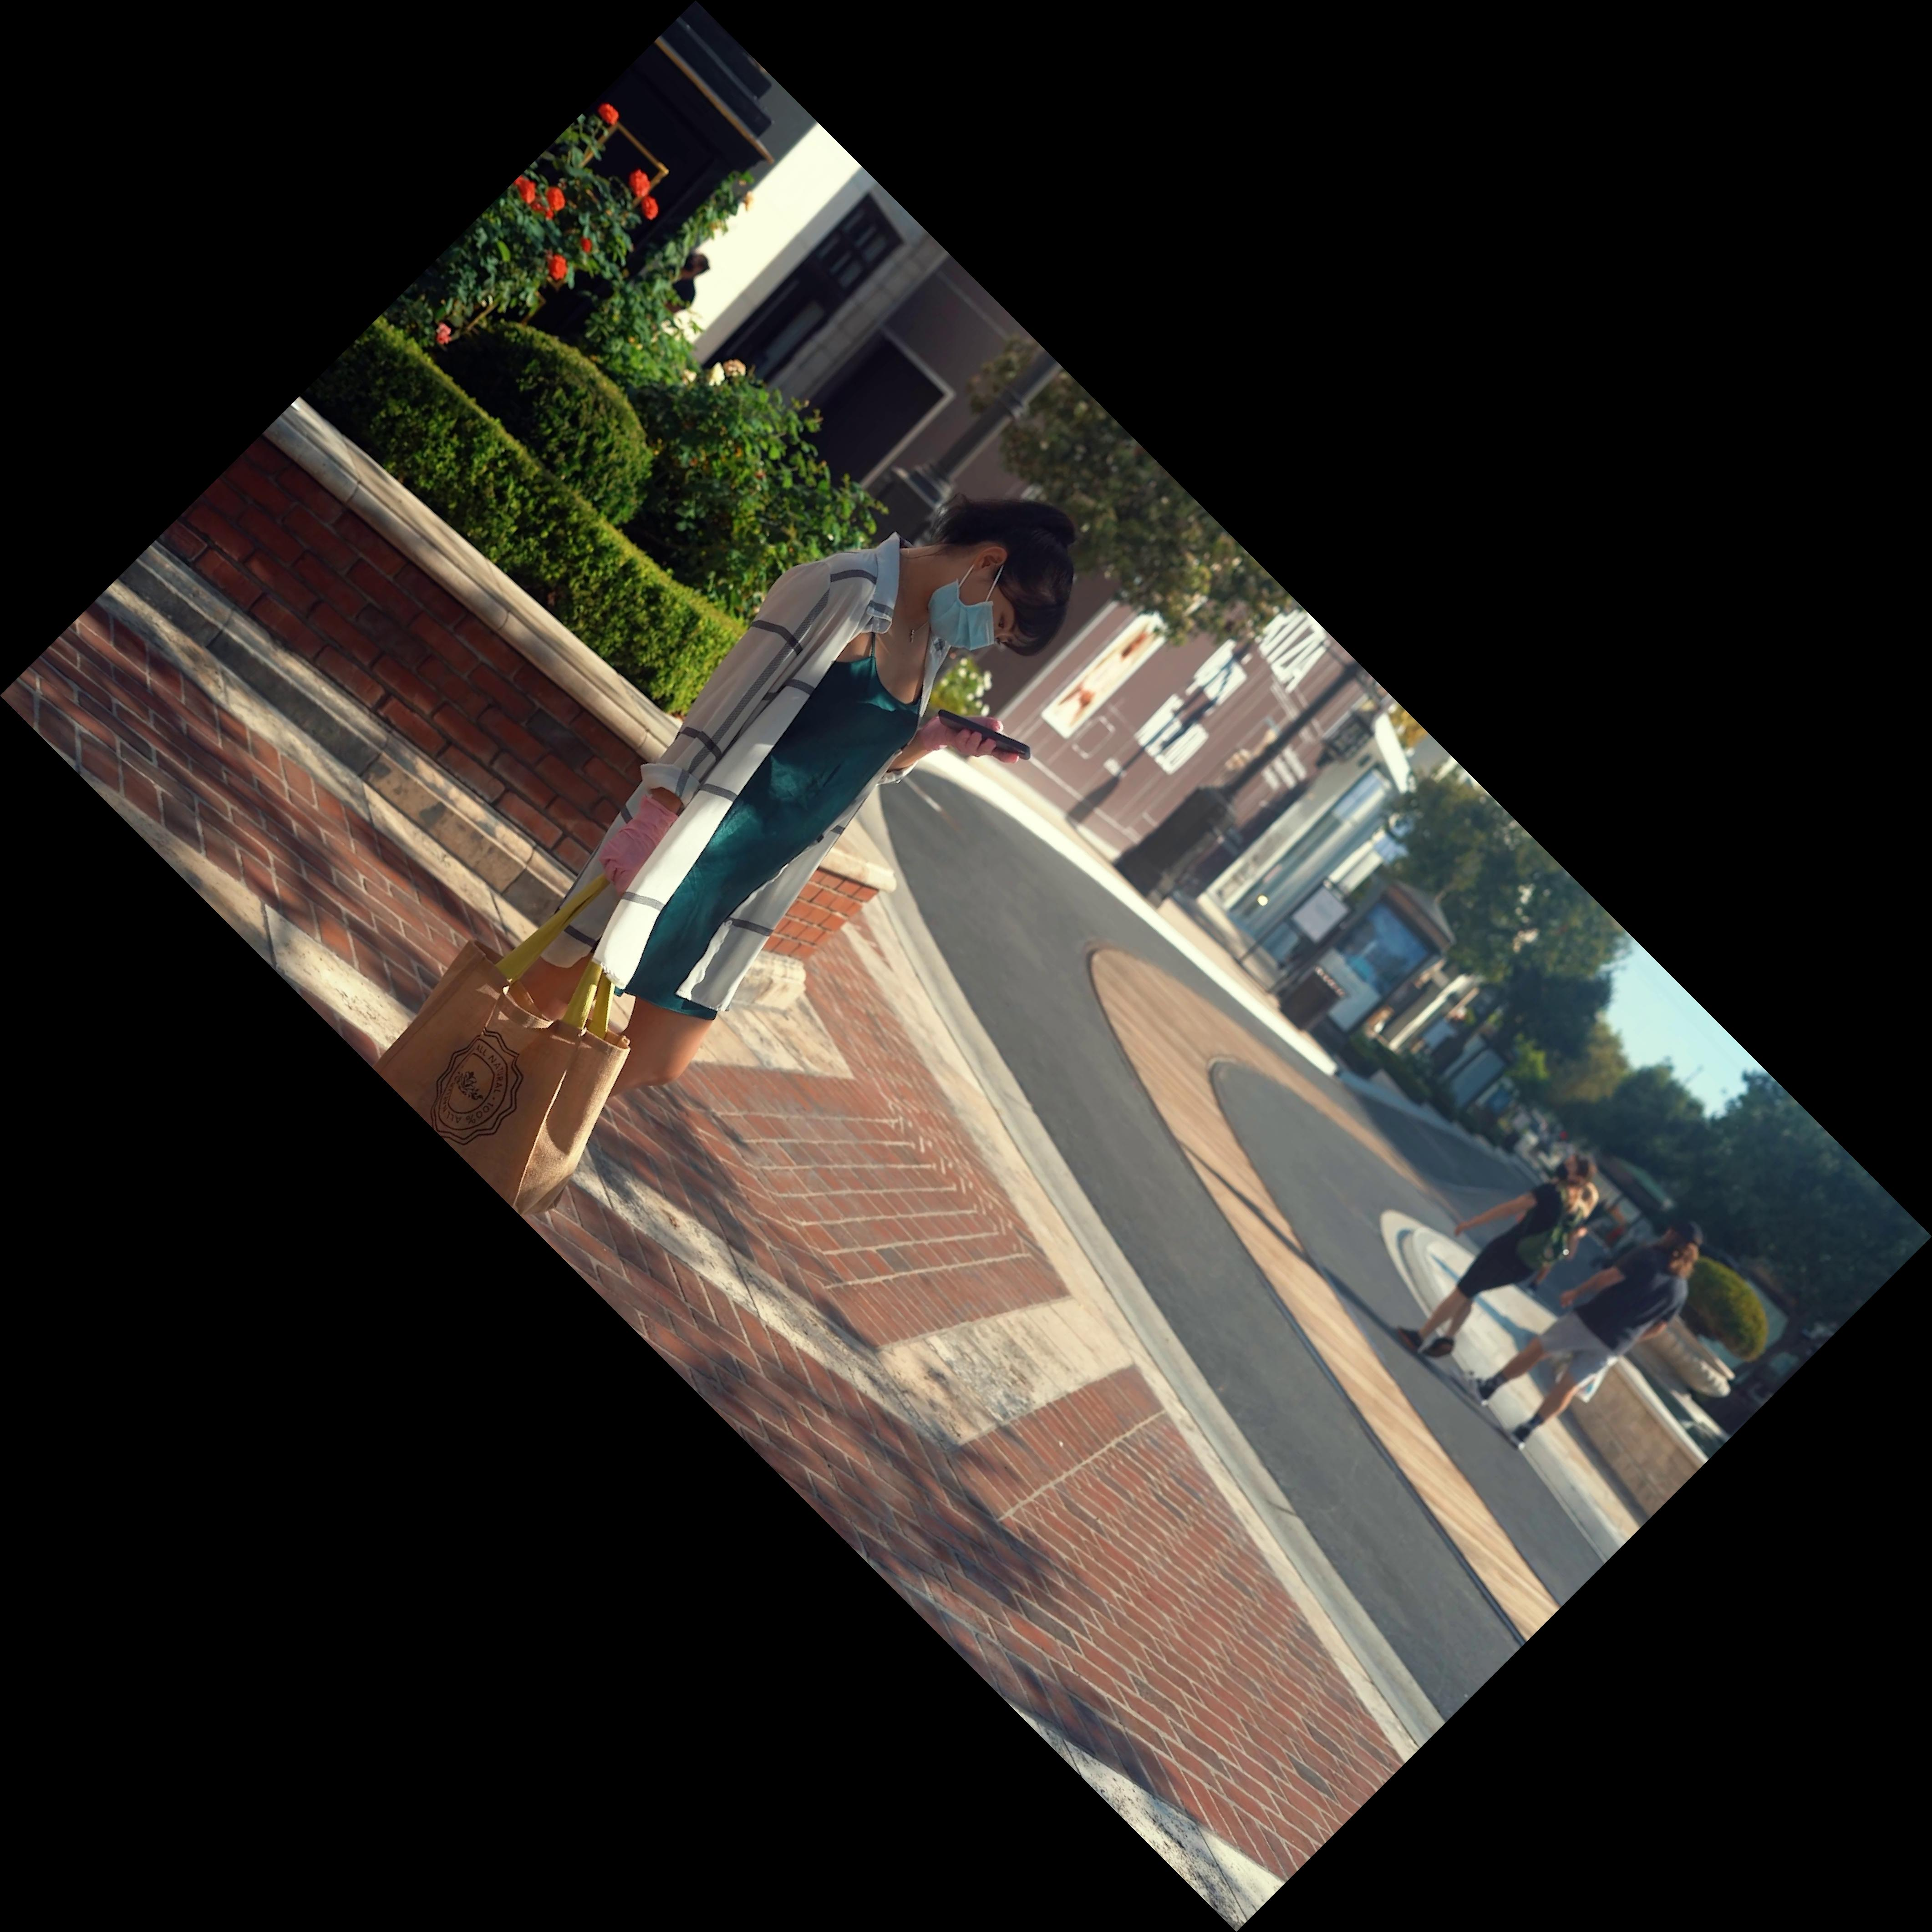phone: (920, 690, 1040, 780)
